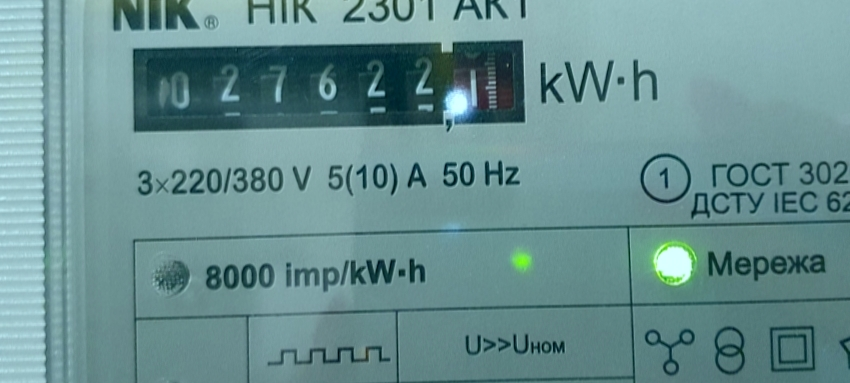0: (167, 68, 192, 111)
1: (464, 66, 481, 109)
2: (217, 62, 241, 105), (362, 58, 387, 99), (412, 55, 435, 97)
6: (315, 61, 337, 102)
7: (266, 63, 289, 107)
screen: (119, 31, 538, 139)
